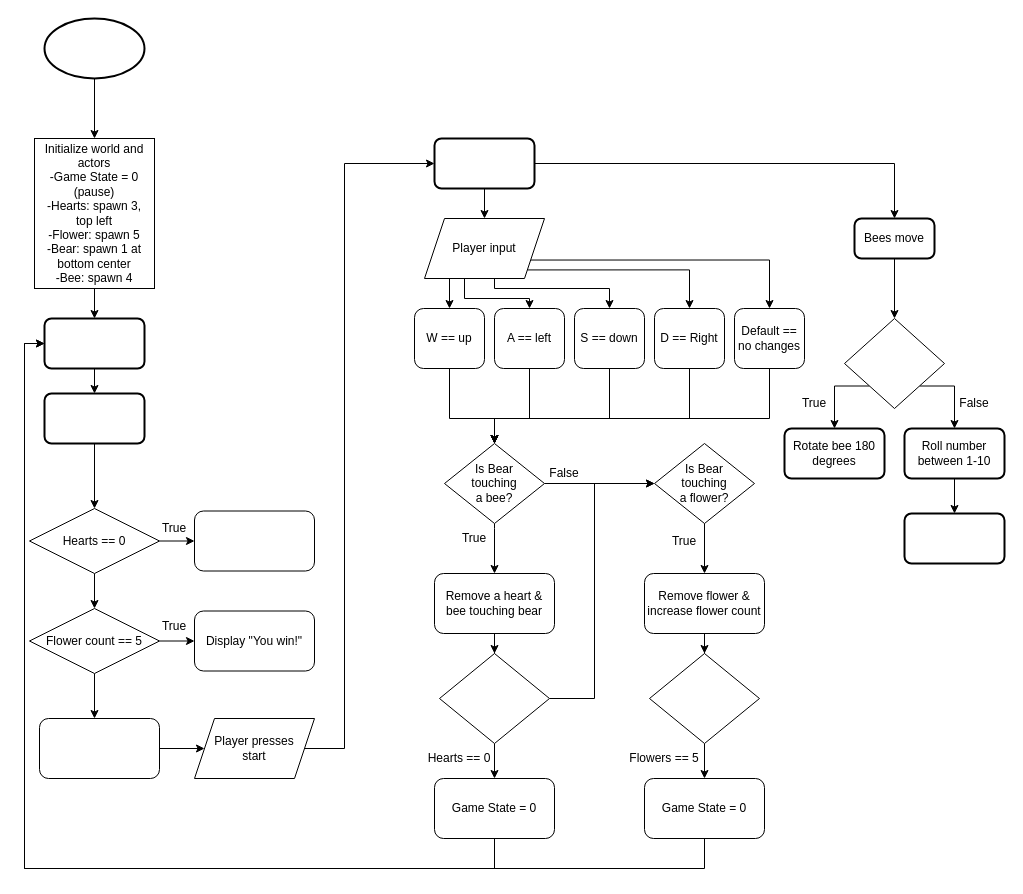
Image size: 1023x894. Some labels were removed from this diagram. The shapes that lost their labels are listed below. From the top down, each one's box as (x1, y1, x2, y2) in pixels, then its label:
(43, 17, 145, 79): Game Start
(433, 137, 535, 189): Game state = 1 (play)
(43, 317, 145, 369): Game state = 0 (pause)
(844, 318, 944, 408): Is Bee touching a world edge?
(43, 392, 145, 444): Stop movement
(194, 510, 314, 571): Display "You lose"
(903, 512, 1005, 564): Rotate bee between -45-45 degrees
(438, 652, 550, 744): How many hearts remaining?
(648, 652, 760, 744): How many flowers counted?
(38, 718, 160, 778): Show start button and brief instructions
